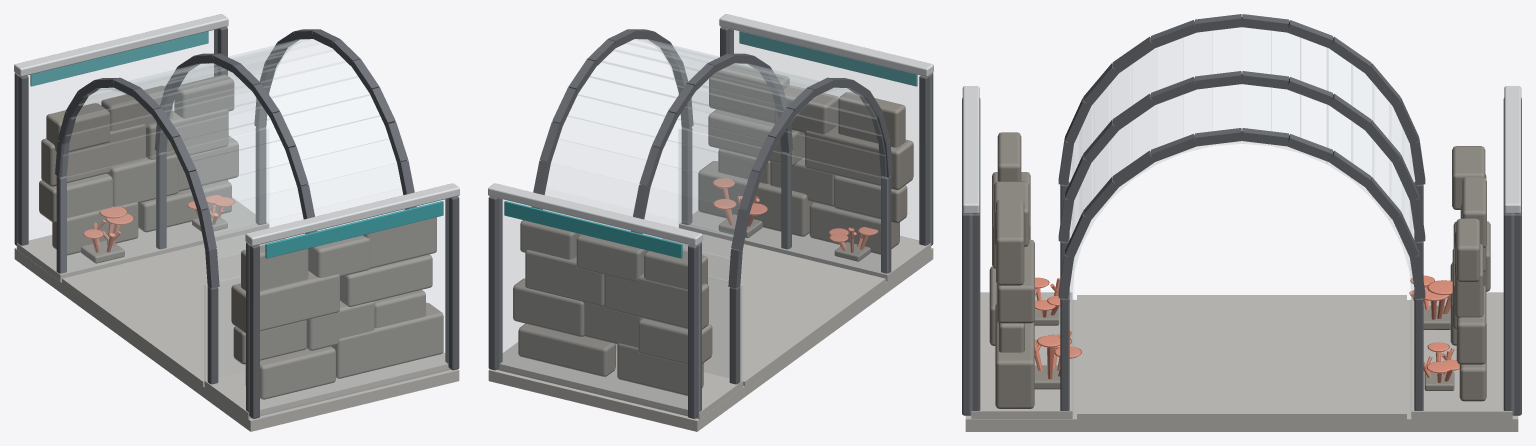
File: public-aquarium-and-marine-centre-tunnel-tank-section-14262dee__34147.glb
The picture shows the model from 3 angles, left to right: view 1: azimuth 30°, elevation 25°; view 2: azimuth 150°, elevation 25°; view 3: azimuth 270°, elevation 25°; orthographic projection. The views are drawn at different scales.
Parts seen in each view (by area): view 1: tunnel-tank-section; view 2: tunnel-tank-section; view 3: tunnel-tank-section.
Boxes of the visible parts, <box> form: tunnel-tank-section: <box>14,14,459,431</box>; tunnel-tank-section: <box>488,14,933,431</box>; tunnel-tank-section: <box>962,14,1521,431</box>.
Bounding box in the file's own units: 2 × 2.34 × 3.97.
